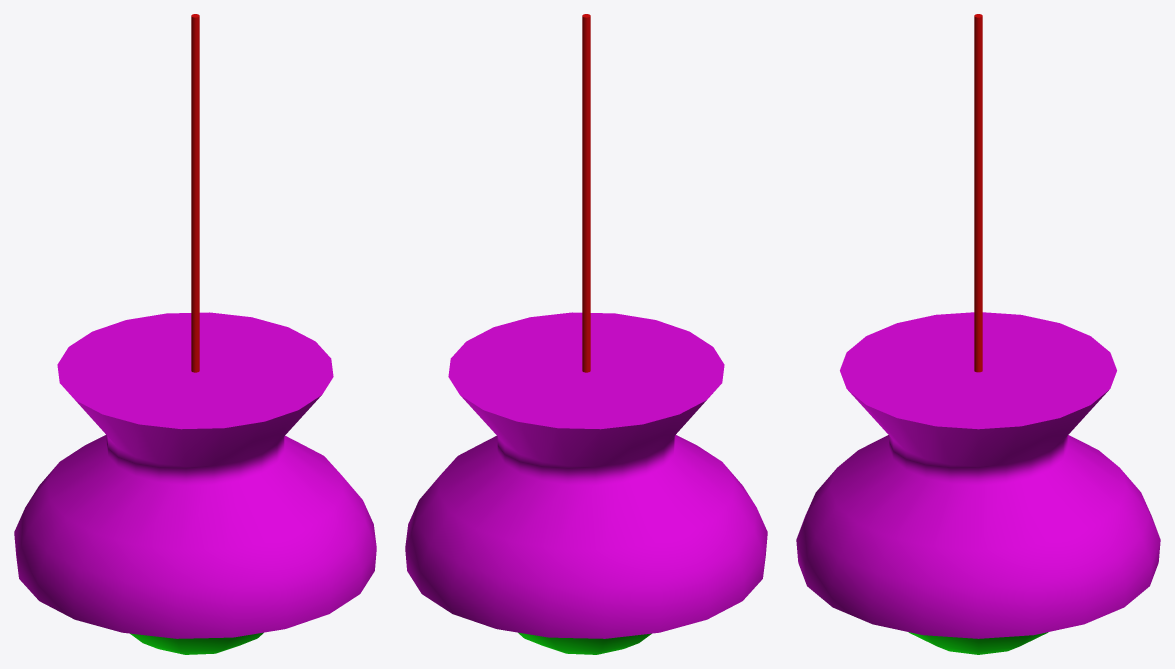
File: SM_Lumiere3.fbx
3 views of the same model, side by side, from view 1: azimuth 30°, elevation 25°; view 2: azimuth 150°, elevation 25°; view 3: azimuth 270°, elevation 25° (orthographic).
Visible parts, largest first — view 1: pCylinder3; view 2: pCylinder3; view 3: pCylinder3.
Boxes of the visible parts, x1=… form: pCylinder3: x1=14, y1=14, x2=376, y2=654; pCylinder3: x1=405, y1=14, x2=767, y2=654; pCylinder3: x1=796, y1=14, x2=1160, y2=654.
Size of the model in its own units: 3.13 by 5.94 by 3.13.
